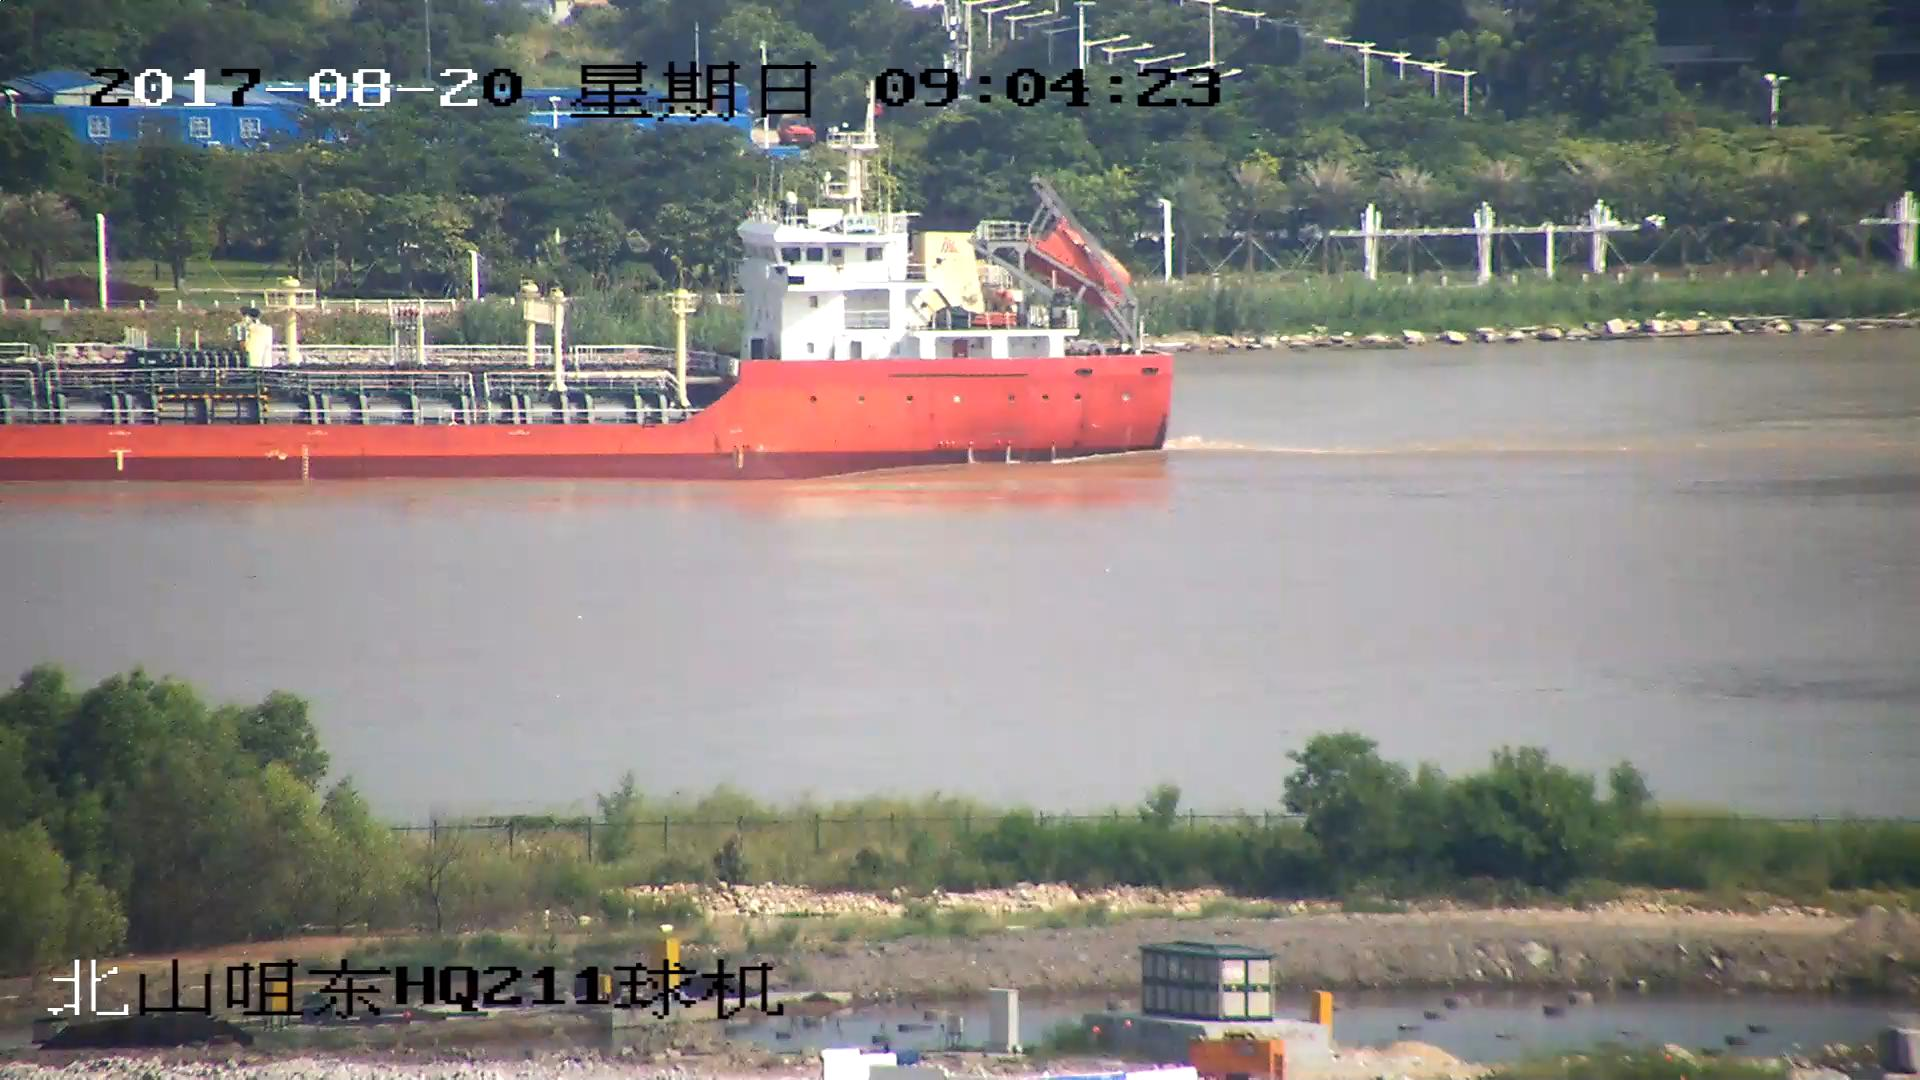general cargo ship: (1, 126, 1177, 474)
